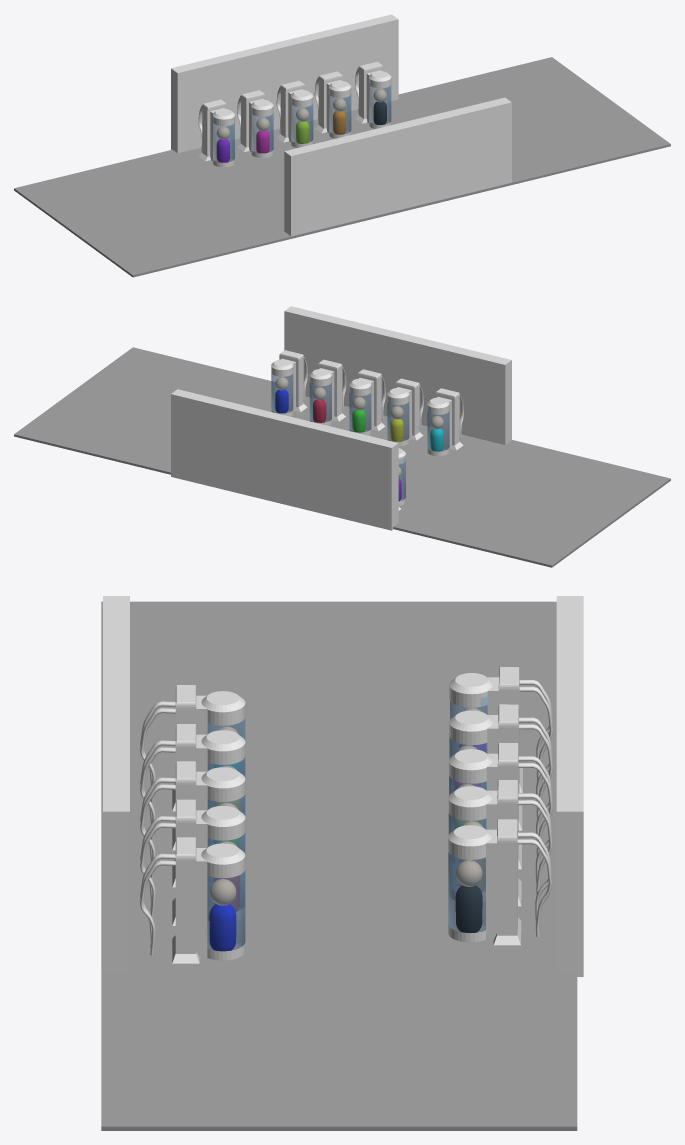
Rendered from Lab1.glb.
The picture shows the model from 3 angles, top to bottom: view 1: azimuth 30°, elevation 25°; view 2: azimuth 150°, elevation 25°; view 3: azimuth 270°, elevation 25°; orthographic projection. The views are drawn at different scales.
Visible parts, largest first — view 1: Cube, Cube.022, Cube.023, Cube.018, Cube.020, Cylinder.012, Cube.016, Cube.014, Cylinder.013, Cylinder.007, Cylinder.009, Cylinder.010 (+5 smaller); view 2: Cube, Cube.023, Cube.022, Cube.011, Cube.009, Cube.007, Cube.005, Cylinder.005, Cylinder.004, Cylinder.006, Cylinder.003, Cylinder (+5 smaller); view 3: Cube, Cube.023, Cube.022, Cube.014, Cube.001, Cylinder, Cylinder.007, Cube.016, Cube.007, Cube.018, Cube.011, Cylinder.012 (+9 smaller).
Boxes of the visible parts, left/top/right/bottom form: Cube: left=14, top=57, right=670, bottom=277; Cube.022: left=284, top=97, right=511, bottom=236; Cube.023: left=171, top=14, right=398, bottom=153; Cube.018: left=237, top=90, right=273, bottom=157; Cube.020: left=277, top=80, right=313, bottom=147; Cylinder.012: left=198, top=99, right=235, bottom=167; Cube.016: left=315, top=71, right=351, bottom=138; Cube.014: left=355, top=61, right=391, bottom=128; Cylinder.013: left=212, top=116, right=234, bottom=162; Cylinder.007: left=369, top=84, right=391, bottom=124; Cylinder.009: left=329, top=94, right=351, bottom=134; Cylinder.010: left=291, top=103, right=313, bottom=143; Cube: left=14, top=347, right=670, bottom=567; Cube.023: left=171, top=389, right=398, bottom=530; Cube.022: left=284, top=306, right=511, bottom=444; Cube.011: left=427, top=388, right=463, bottom=456; Cube.009: left=387, top=378, right=423, bottom=446; Cube.007: left=309, top=359, right=345, bottom=425; Cube.005: left=349, top=369, right=385, bottom=435; Cylinder.005: left=309, top=382, right=331, bottom=422; Cylinder.004: left=387, top=402, right=409, bottom=441; Cylinder.006: left=427, top=410, right=449, bottom=451; Cylinder.003: left=349, top=392, right=371, bottom=432; Cylinder: left=271, top=373, right=293, bottom=412; Cube: left=101, top=601, right=577, bottom=1130; Cube.023: left=556, top=596, right=583, bottom=976; Cube.022: left=103, top=596, right=129, bottom=971; Cube.014: left=448, top=819, right=521, bottom=945; Cube.001: left=172, top=837, right=199, bottom=963; Cylinder: left=207, top=869, right=245, bottom=950; Cylinder.007: left=448, top=852, right=485, bottom=932; Cube.016: left=448, top=780, right=521, bottom=906; Cube.007: left=172, top=799, right=245, bottom=925; Cube.018: left=449, top=704, right=522, bottom=830; Cube.011: left=172, top=685, right=245, bottom=811; Cylinder.012: left=449, top=667, right=522, bottom=792.
Bounding box in the file's own units: 92.26 × 15.33 × 35.82.
